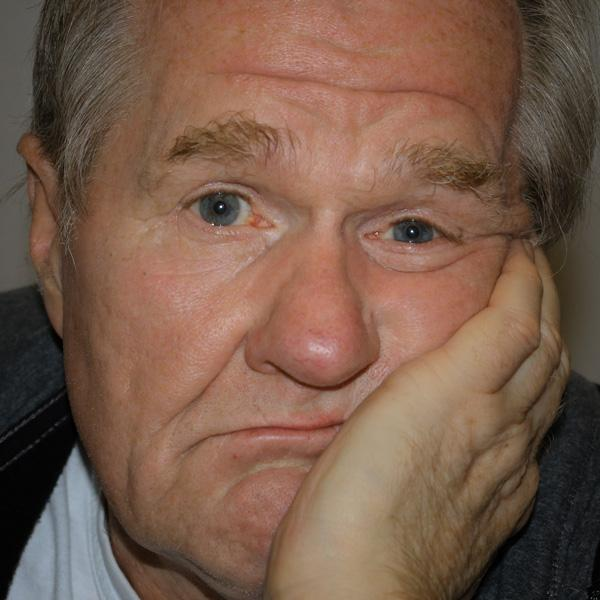Eyes: (168, 170, 283, 246), (350, 196, 465, 271)
